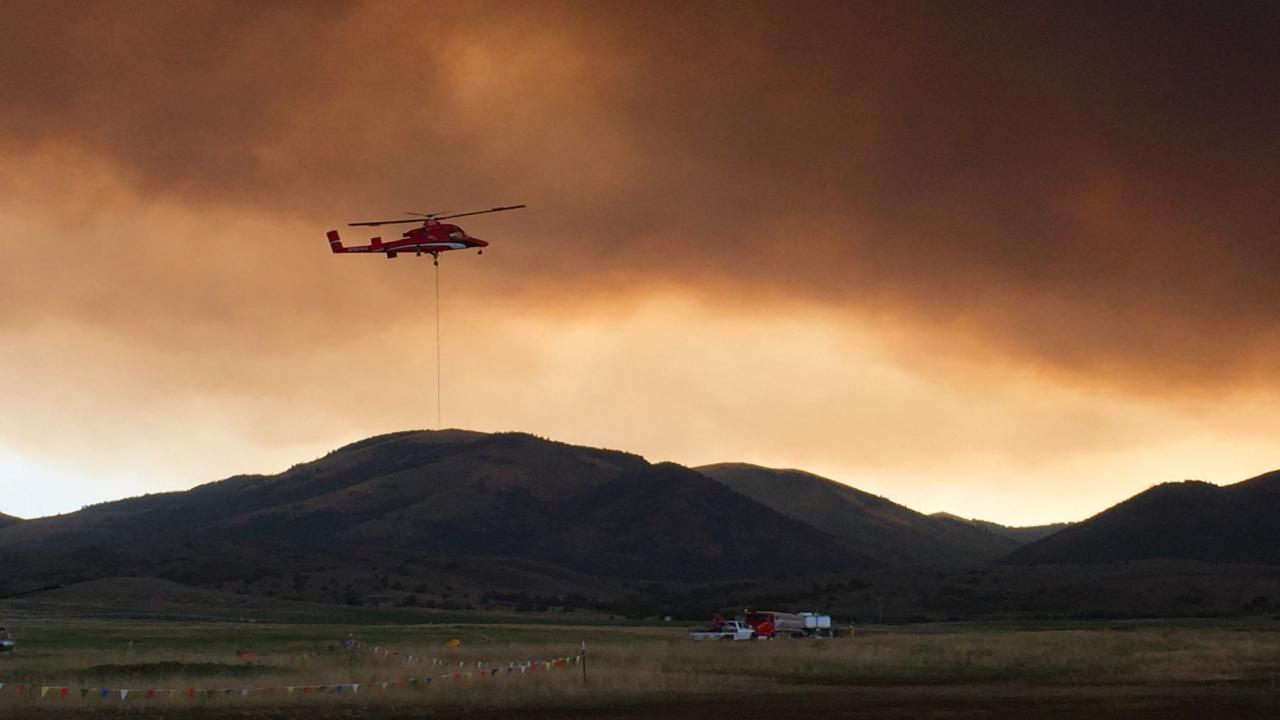Helicopter: (306, 192, 538, 276)
